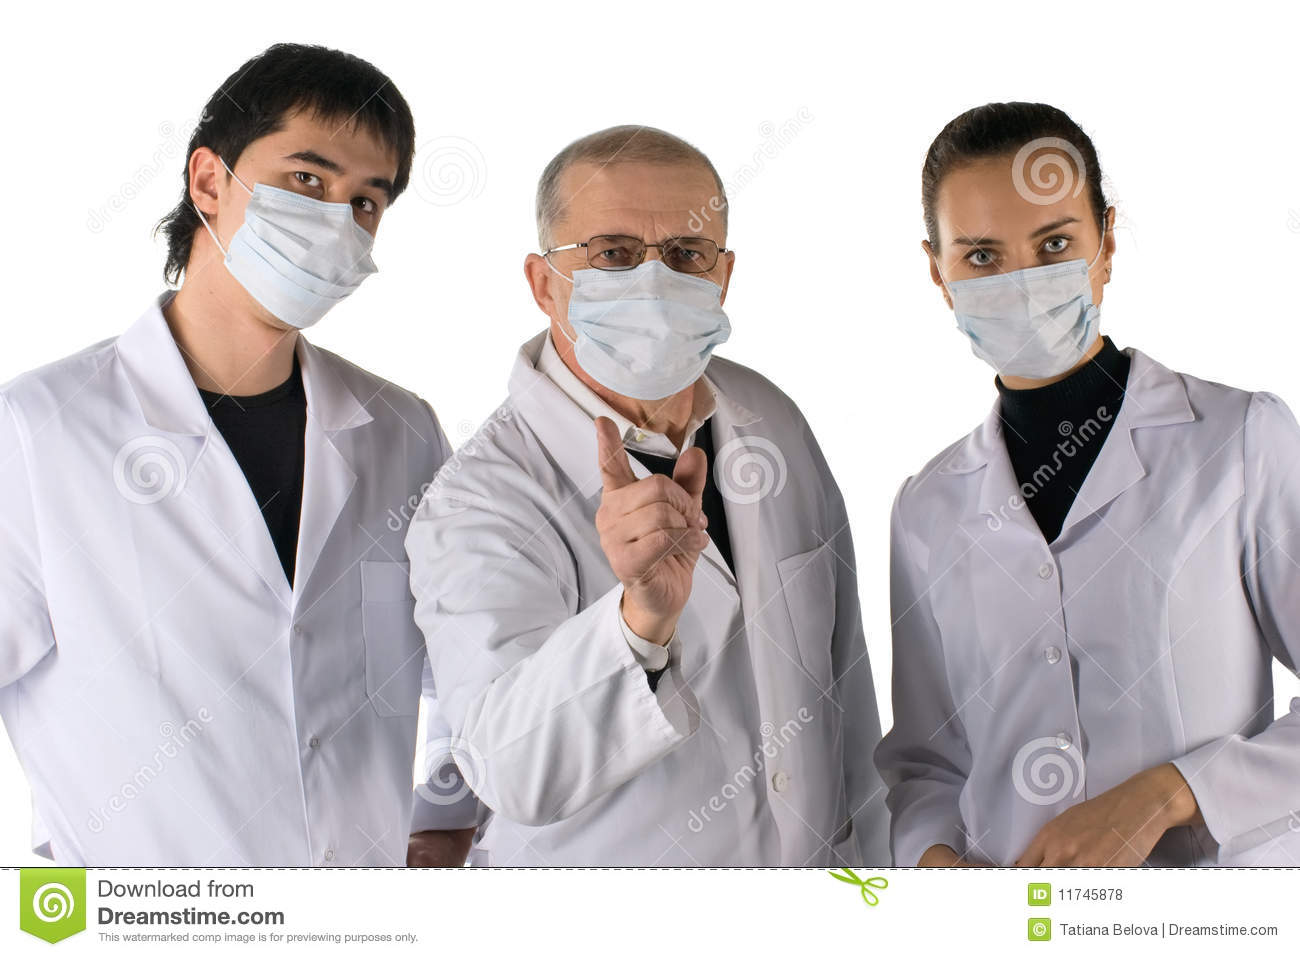mask: (222, 185, 380, 332), (570, 262, 733, 397), (955, 260, 1109, 380)
